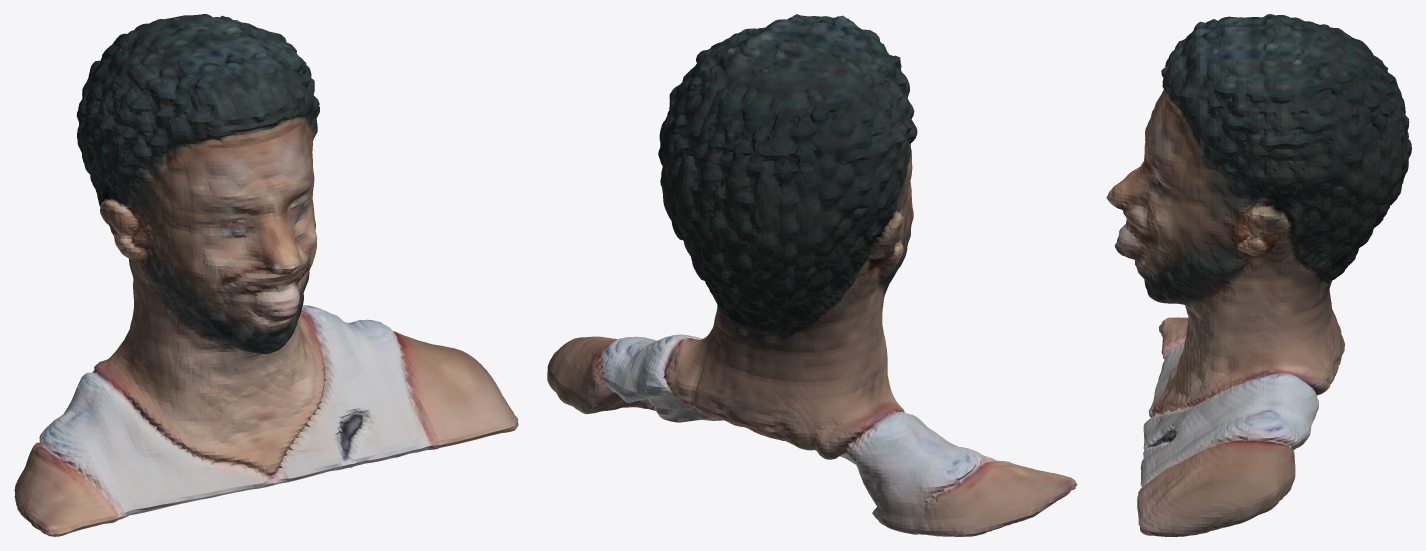
3 renders of one model, left to right at view 1: azimuth 30°, elevation 25°; view 2: azimuth 150°, elevation 25°; view 3: azimuth 270°, elevation 25°, orthographic. The views are drawn at different scales.
Visible parts, largest first — view 1: geometry_0; view 2: geometry_0; view 3: geometry_0.
Boxes of the visible parts, <box> form: geometry_0: <box>14,14,518,536</box>; geometry_0: <box>547,14,1077,536</box>; geometry_0: <box>1106,14,1411,536</box>.
Bounding box in the file's own units: 0.998 × 0.8618 × 0.5888.
